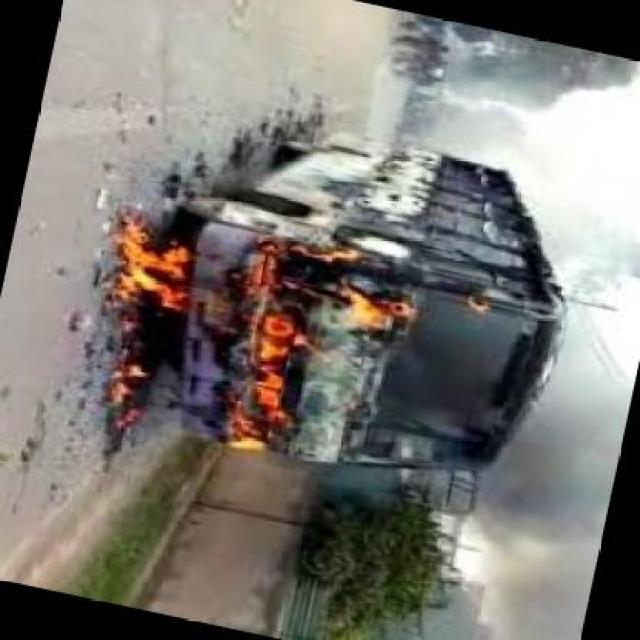Fire: (104, 203, 392, 472)
Smoke: (455, 324, 609, 640), (393, 68, 621, 246)
